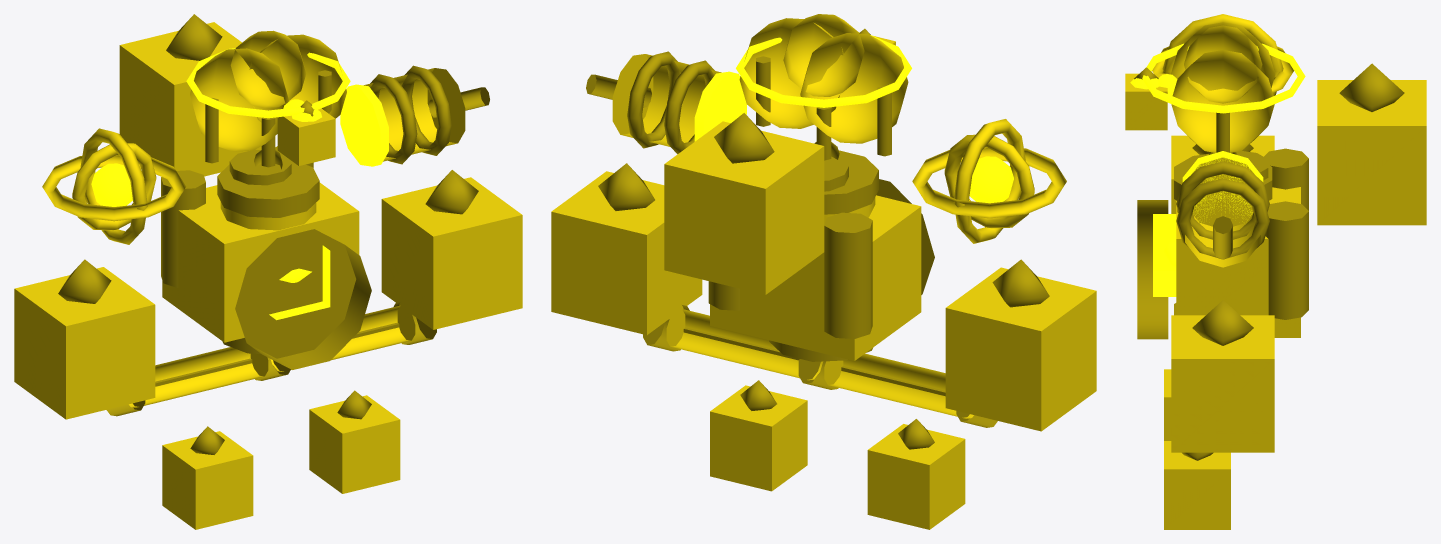
File: golem_123.glb
3 renders of one model, left to right at view 1: azimuth 30°, elevation 25°; view 2: azimuth 150°, elevation 25°; view 3: azimuth 270°, elevation 25°, orthographic. The views are drawn at different scales.
Visible parts, largest first — view 1: Body, Detail, Glow; view 2: Body, Detail, Glow; view 3: Body, Detail, Glow.
Part boxes in pixels (<box>): Body: <box>14,22,522,529</box>; Detail: <box>58,14,489,454</box>; Glow: <box>91,48,388,320</box>; Body: <box>551,14,1096,529</box>; Detail: <box>586,28,1049,449</box>; Glow: <box>694,35,1013,203</box>; Body: <box>1125,14,1426,529</box>; Detail: <box>1134,63,1404,460</box>; Glow: <box>1130,43,1305,296</box>.
Size of the model in its own units: 1.22 by 1.15 by 0.6944.
